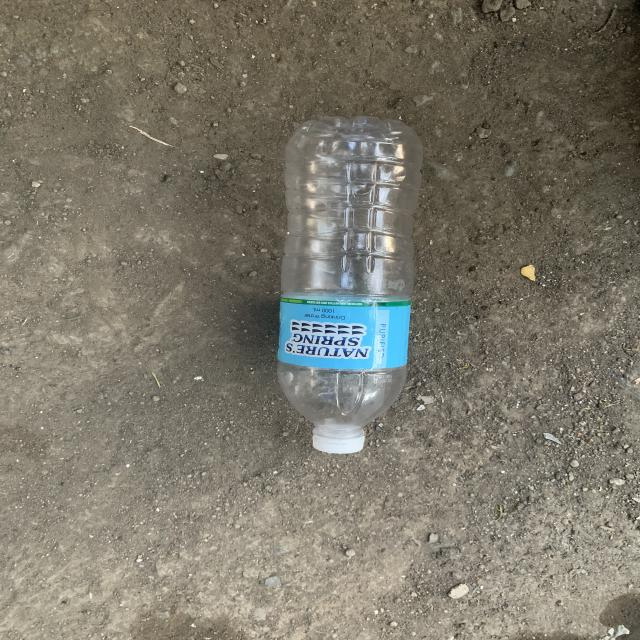Bottle: (277, 117, 422, 453)
